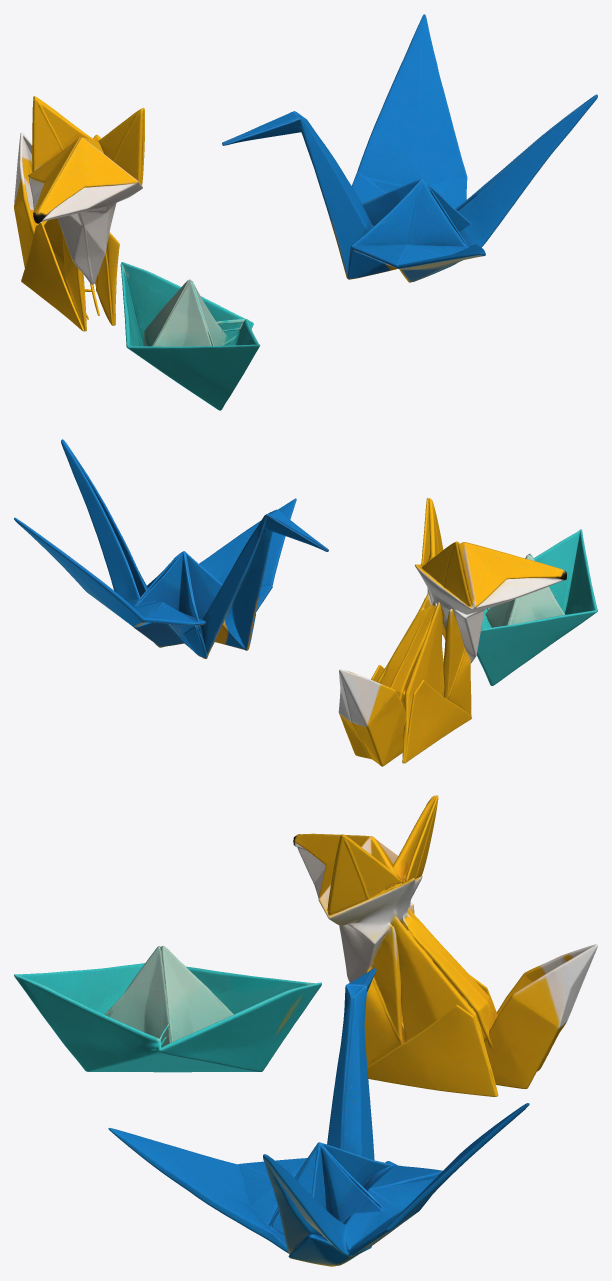
The model's file is origami_figures_set-optimized.glb.
3 renders of one model, top to bottom at view 1: azimuth 30°, elevation 25°; view 2: azimuth 150°, elevation 25°; view 3: azimuth 270°, elevation 25°, orthographic. The views are drawn at different scales.
Bounding box in the file's own units: 1.9 × 0.7238 × 1.48.
1 material, 1 textured.
